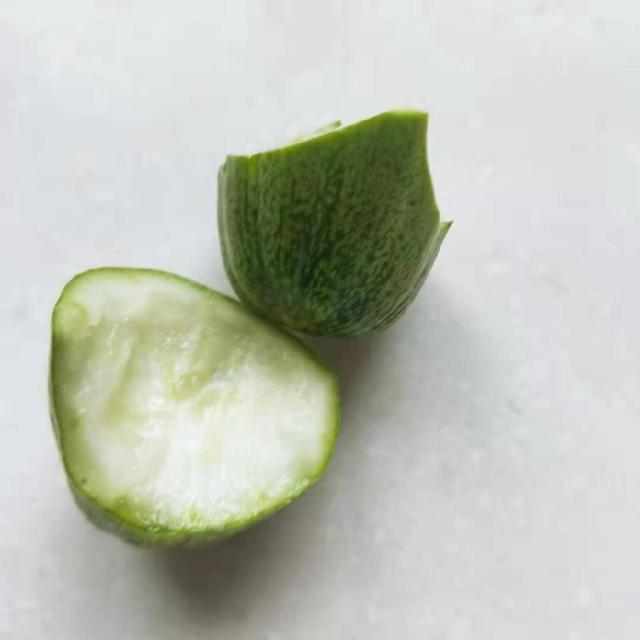organic: (46, 110, 454, 555)
